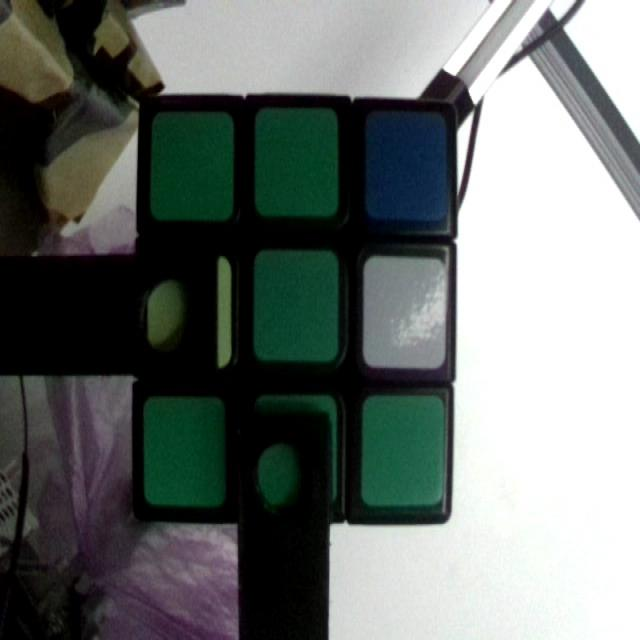b: (364, 120, 444, 224)
g: (253, 248, 339, 359), (255, 394, 335, 509), (367, 398, 448, 506), (147, 398, 229, 502), (261, 116, 338, 217), (155, 117, 230, 215)
w: (362, 256, 441, 365)
y: (146, 257, 231, 368)
